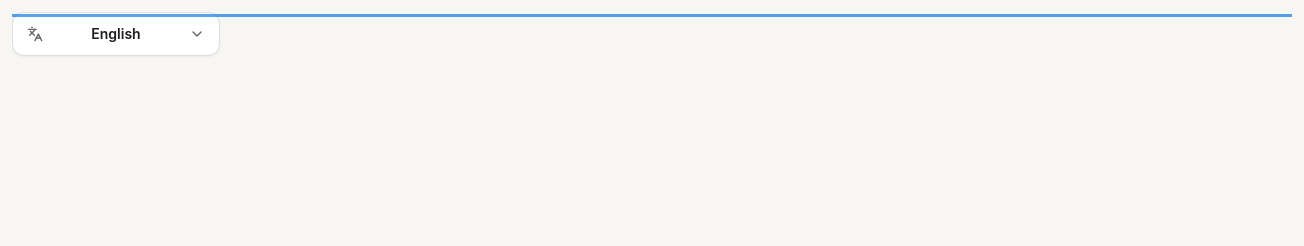
Test: LanguagePicker › switches to Arabic, persists it, and flips the document to RTL
Press ArrowDown in the dropdown, box 12,12 -> 220,56
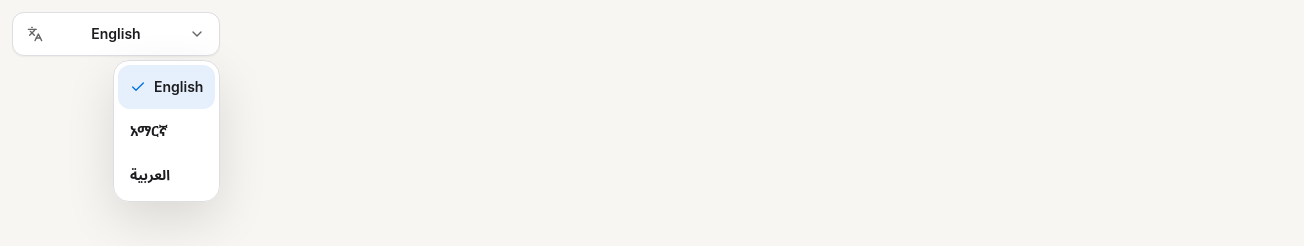
Click the option "العربية". click: coordinates (150, 174)
box: 130,166 -> 170,183
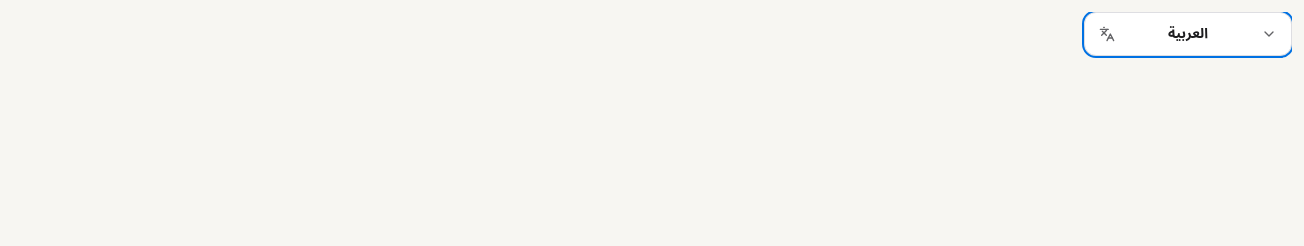
expect the dropdown named "اللغة" is shown: met, box 1084,12 -> 1292,56
